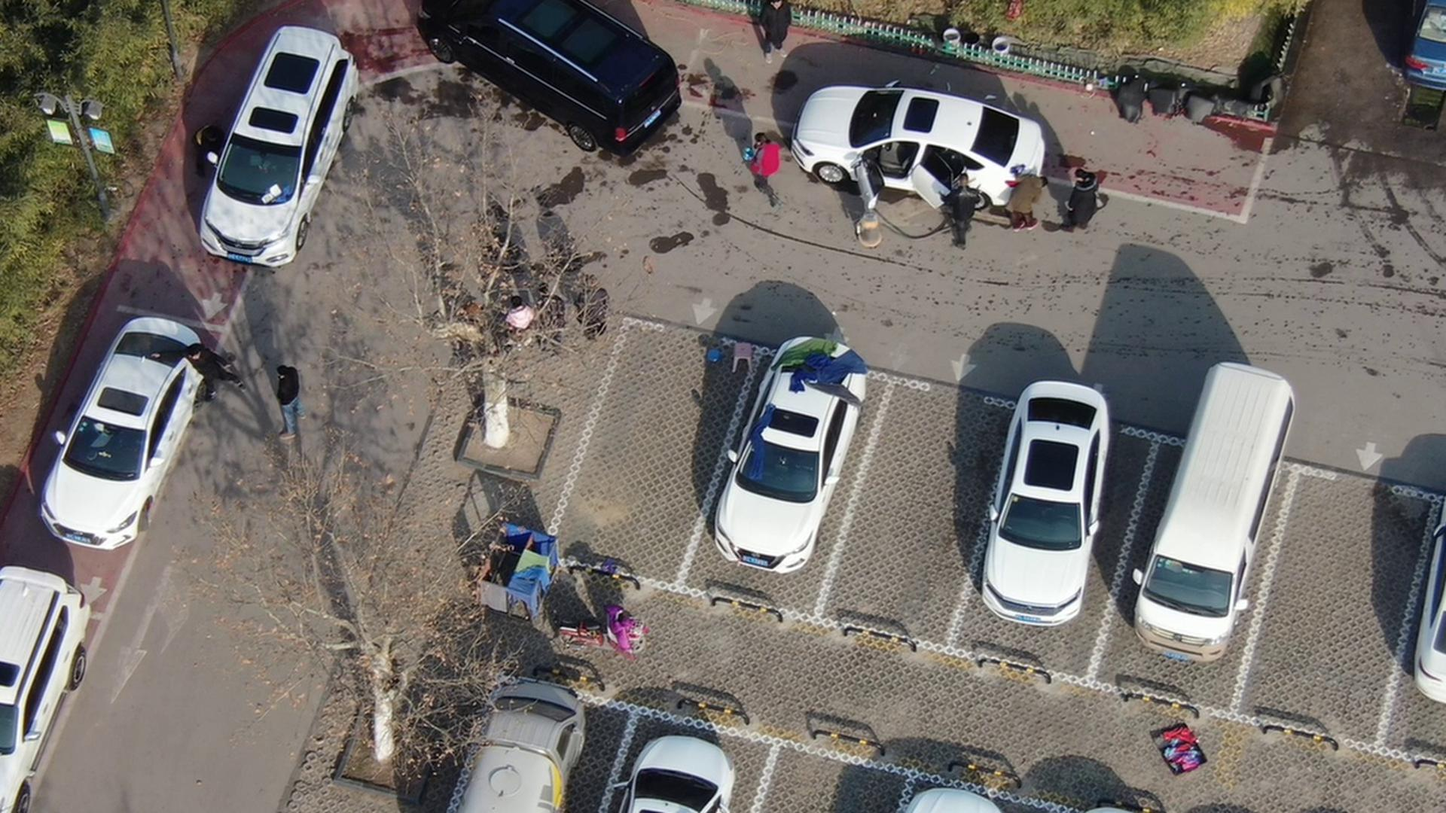human: (157, 346, 256, 397), (1059, 161, 1114, 238), (937, 175, 990, 252), (577, 273, 623, 346), (749, 125, 788, 210), (1011, 171, 1057, 234), (276, 362, 309, 442), (541, 280, 572, 357), (765, 1, 804, 61), (200, 120, 236, 177)
